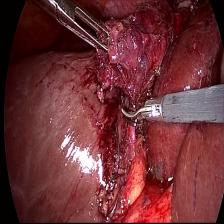Grasper: (44, 0, 112, 60)
Scissors: (119, 90, 165, 132)
